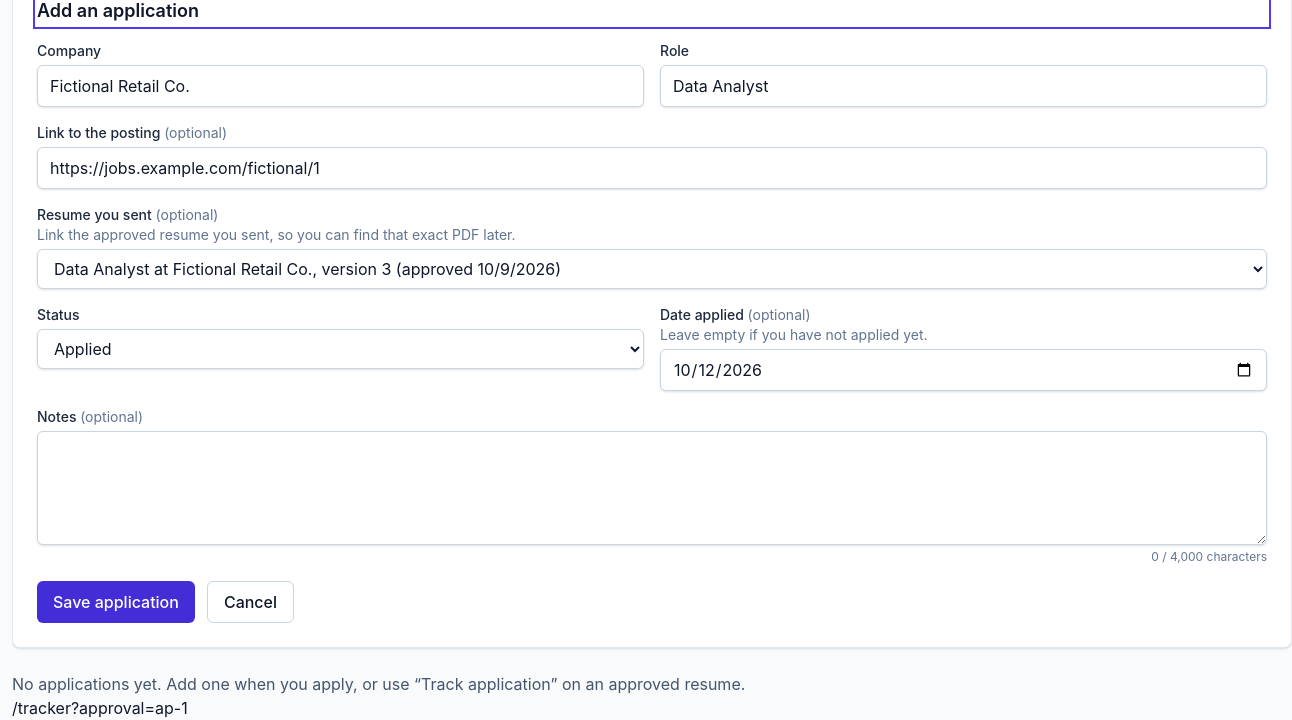
Test: TrackerPage › opens a form prefilled from an approved resume link
(page scrolled)
expect the heading "Add an application" is shown: met, box x1=37 y1=0 x2=199 y2=21
expect the text with test id "location" reads "/tracker?approval=ap-1": met, box x1=12 y1=698 x2=188 y2=718
Click the button "Save application": [116, 602] box x1=37 y1=581 x2=195 y2=623
(page scrolled)
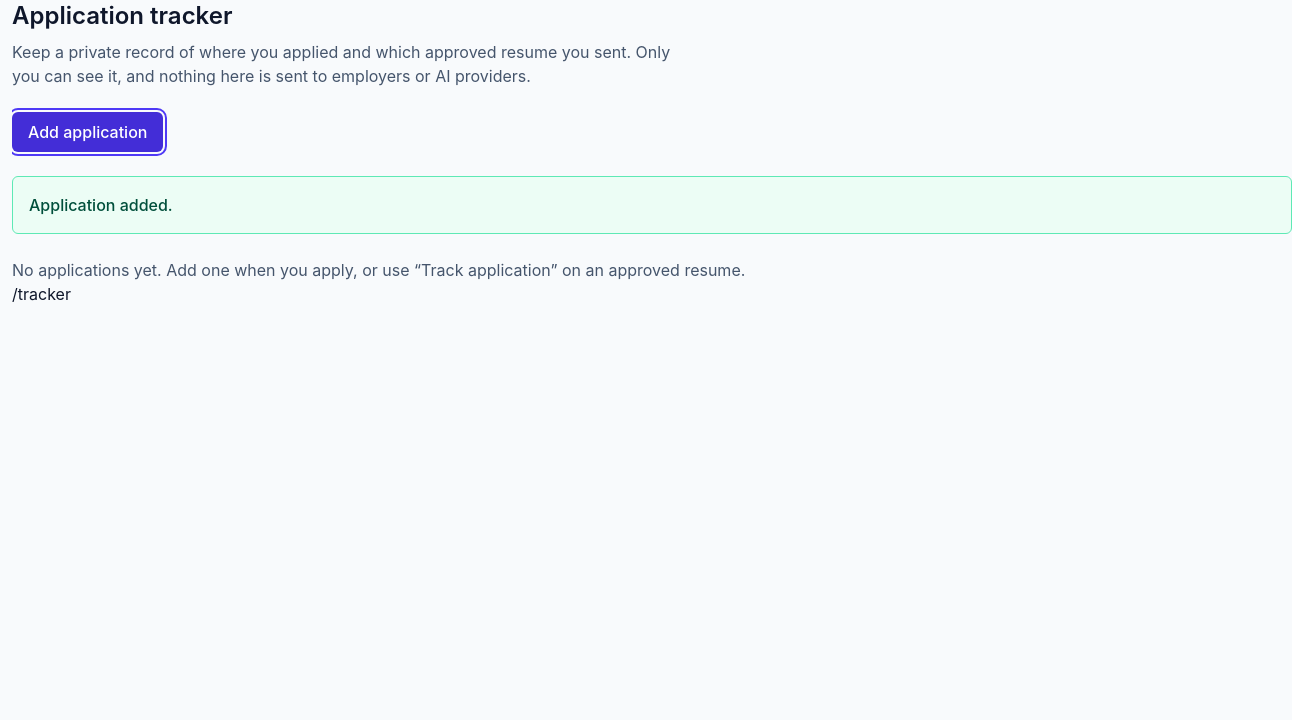
expect the text "Application added." is shown: met, box x1=29 y1=195 x2=173 y2=215
expect the text with test id "location" reads "/tracker": met, box x1=12 y1=284 x2=71 y2=304
